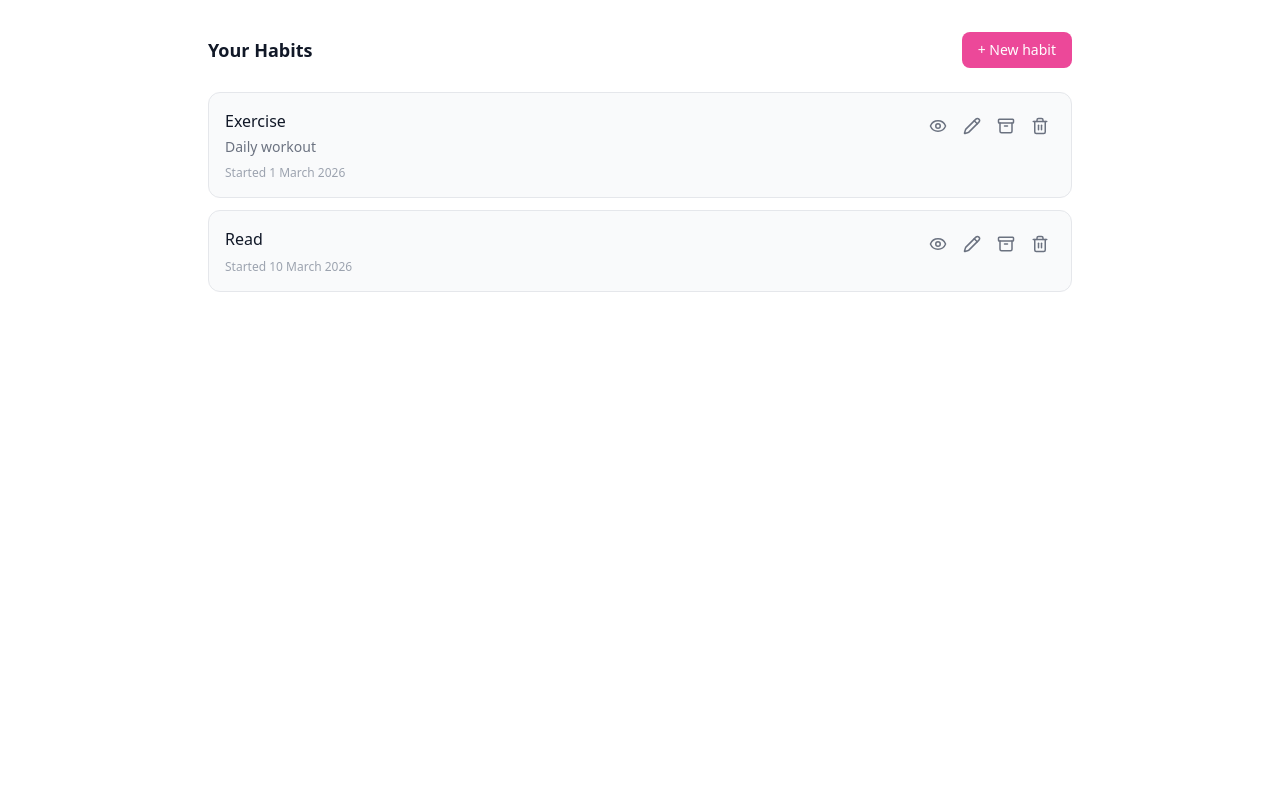
HabitListPage › opens edit modal from habit card Edit button
Expected: the link "Exercise" is shown, [225,110,286,132]
Click the button named "edit exercise". click: (972, 126)
box: [957,111,987,141]
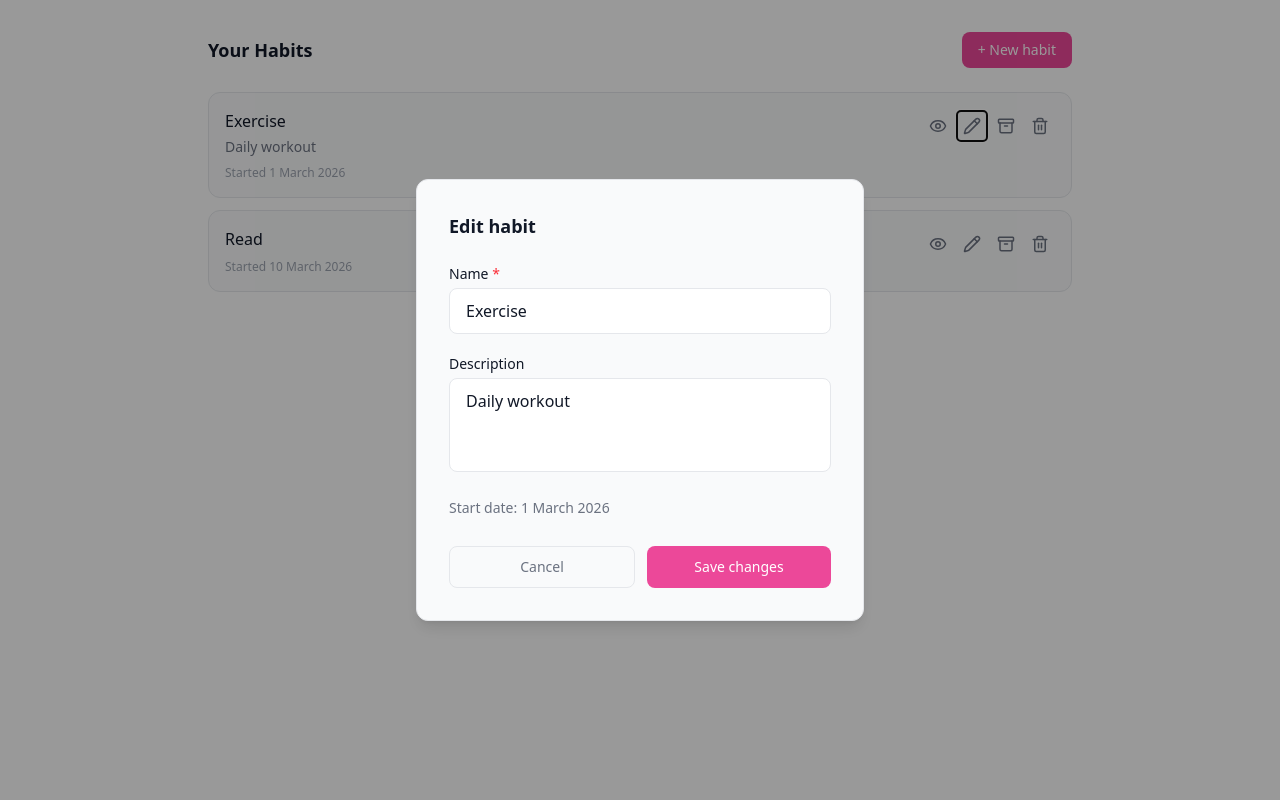
Result: the dialog is shown at [416,179,864,621]
